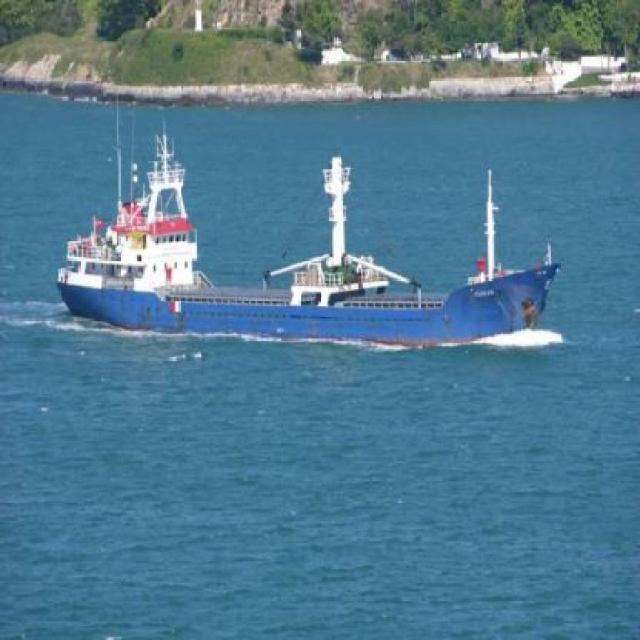ship: (26, 128, 579, 338)
